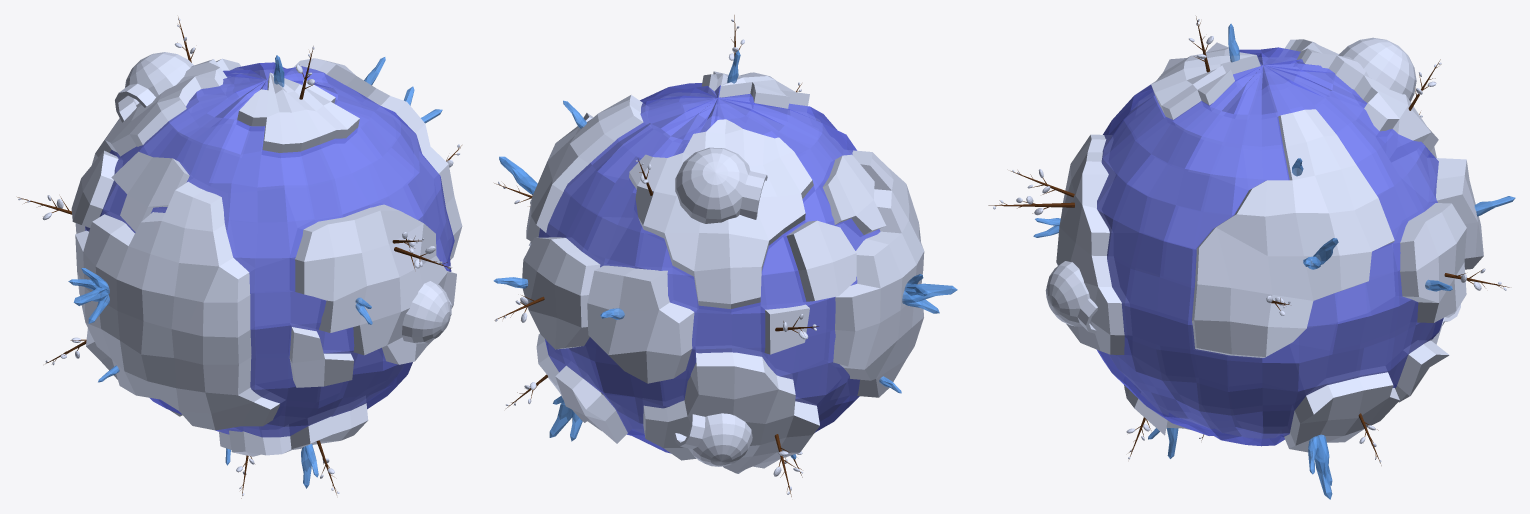
File: belsavis.glb
3 renders of one model, left to right at view 1: azimuth 30°, elevation 25°; view 2: azimuth 150°, elevation 25°; view 3: azimuth 270°, elevation 25°, orthographic. The views are drawn at different scales.
Visible parts, largest first — view 1: Object_6.002, Object_5.001, Object_3.001, Object_4.003; view 2: Object_6.002, Object_5.001, Object_3.001, Object_4.003; view 3: Object_6.002, Object_5.001, Object_3.001, Object_4.003.
Boxes of the visible parts, x1,y1,x2,y2 form: Object_6.002: [18, 18, 462, 495]; Object_5.001: [85, 62, 454, 437]; Object_3.001: [68, 55, 442, 488]; Object_4.003: [17, 17, 461, 498]; Object_6.002: [495, 19, 924, 494]; Object_5.001: [538, 83, 880, 453]; Object_3.001: [493, 50, 957, 459]; Object_4.003: [494, 15, 818, 496]; Object_6.002: [993, 19, 1506, 462]; Object_5.001: [1096, 47, 1443, 446]; Object_3.001: [1033, 23, 1515, 499]; Object_4.003: [988, 16, 1509, 465].
Size of the model in its own units: 0.7769 by 0.7692 by 0.7935.
